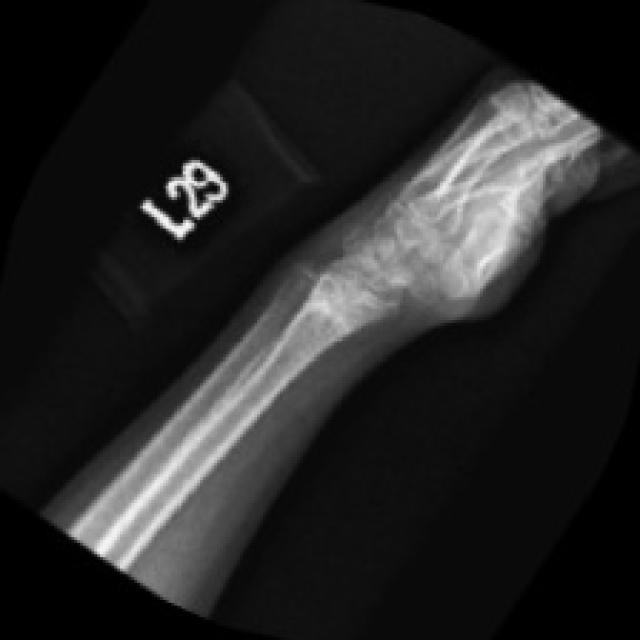fracture: (273, 194, 370, 327)
